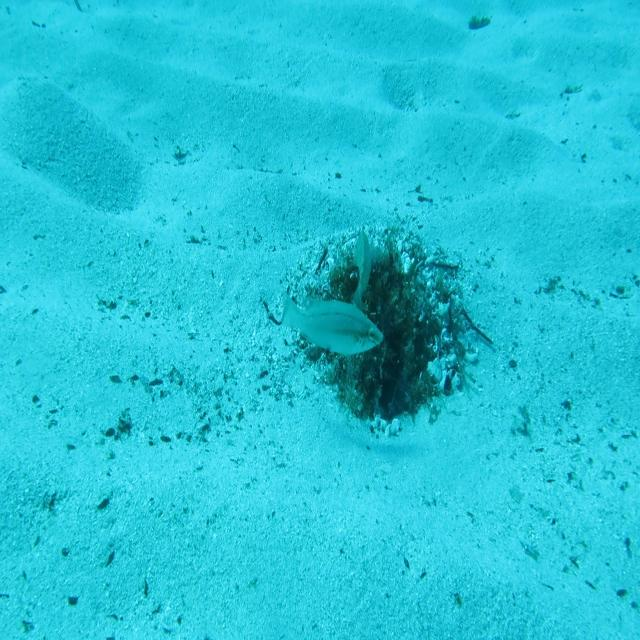NIP_IN: (350, 227, 373, 312)
core_nest: (362, 264, 409, 312)
female: (278, 286, 384, 362)
nest: (276, 211, 487, 448)
vegetation: (467, 14, 493, 32)
